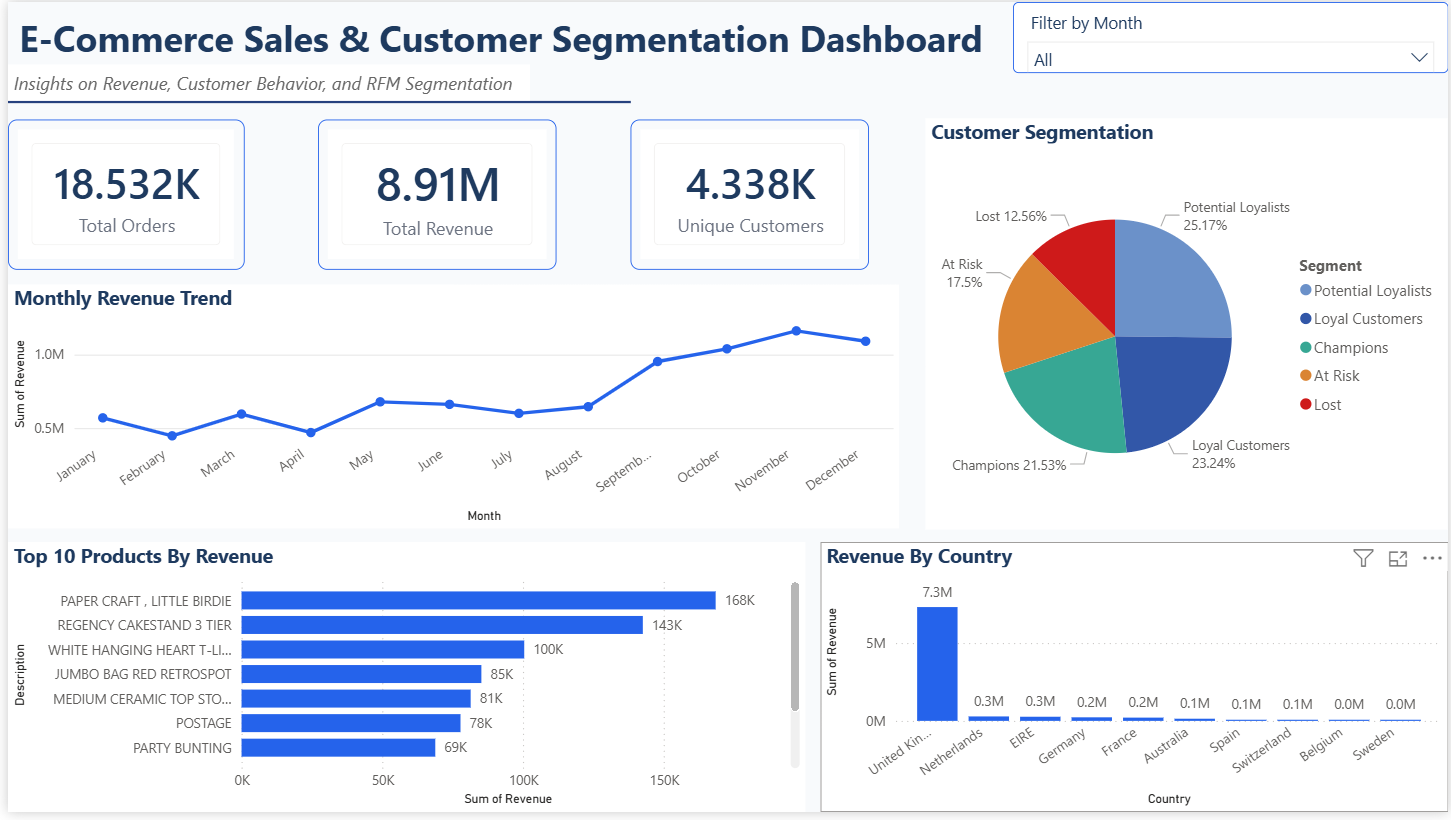

The dashboard page shown, as its layout file describes it:
{"tool":"powerbi","page":{"name":"Page 1","canvas":[1280,720],"ordinal":0},"visuals":[{"type":"cardVisual","fields":{"Data":["Sum(ecommerce_db retail_store.Revenue)"]},"box":[275.6,104.4,212.2,133.3],"z":0},{"type":"cardVisual","fields":{"Data":["Count(ecommerce_db retail_store.InvoiceNo)"]},"box":[0,104.4,210,133.3],"z":1000},{"type":"cardVisual","fields":{"Data":["Count(ecommerce_db retail_store.CustomerID)"]},"box":[553.3,104.4,212.2,133.3],"z":2000},{"type":"lineChart","title":"Monthly Revenue Trend","fields":{"Category":["ecommerce_db retail_store.InvoiceDate.Variation.Date Hierarchy.Month"],"Y":["Sum(ecommerce_db retail_store.Revenue)"]},"box":[0,251.1,792.2,216.7],"z":3000},{"type":"clusteredBarChart","title":"Top 10 Products By Revenue","fields":{"Category":["ecommerce_db retail_store.Description"],"Y":["Sum(ecommerce_db retail_store.Revenue)"]},"box":[0,480,708.9,240],"z":4000},{"type":"clusteredColumnChart","title":"Revenue By Country","fields":{"Category":["ecommerce_db retail_store.Country"],"Y":["Sum(ecommerce_db retail_store.Revenue)"]},"box":[722.2,480,557.8,240],"z":5000},{"type":"pieChart","title":"Customer Segmentation","fields":{"Category":["RFM_Segments.Segment"],"Y":["Sum(RFM_Segments.Customers)"]},"box":[815.7,102.9,464.3,365.7],"z":6000},{"type":"textbox","box":[0,0,892.5,63.3],"z":7000},{"type":"shape","box":[0,73.1,553.7,31.2],"z":8000},{"type":"textbox","box":[0,55.8,464.2,31.7],"z":9000},{"type":"slicer","fields":{"Values":["ecommerce_db retail_store.InvoiceDate.Variation.Date Hierarchy.Month"]},"box":[892.9,0,387.1,63.5],"z":10000}]}

Visuals, with their boxes in screenshot pixels (x1, y1, x2, y2), scaled from the page's 1280x720 canvas onto the 1451x820 screenshot:
cardVisual - Sum(ecommerce_db retail_store.Revenue): 312/119/553/271
cardVisual - Count(ecommerce_db retail_store.InvoiceNo): 0/119/238/271
cardVisual - Count(ecommerce_db retail_store.CustomerID): 627/119/868/271
"Monthly Revenue Trend" lineChart: 0/286/898/533
"Top 10 Products By Revenue" clusteredBarChart: 0/547/804/819
"Revenue By Country" clusteredColumnChart: 819/547/1450/819
"Customer Segmentation" pieChart: 925/117/1450/534
textbox: 0/0/1012/72
shape: 0/83/628/119
textbox: 0/64/526/100
slicer - ecommerce_db retail_store.InvoiceDate.Variation.Date Hierarchy.Month: 1012/0/1450/72
